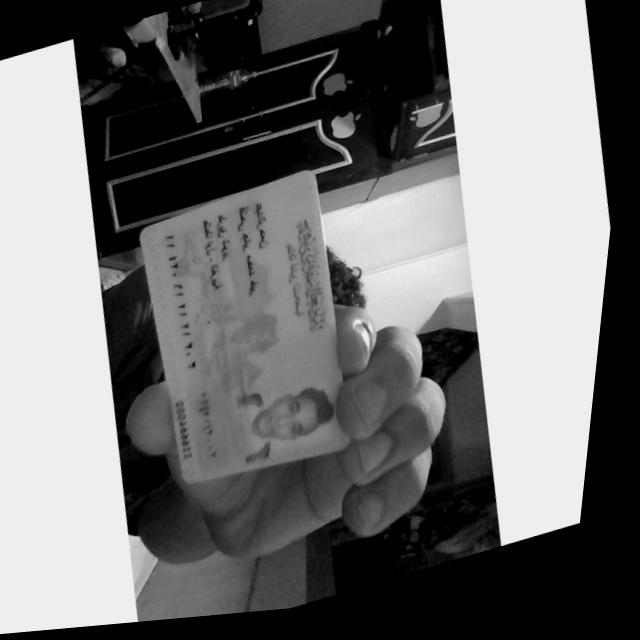id_card: (141, 169, 349, 482)
